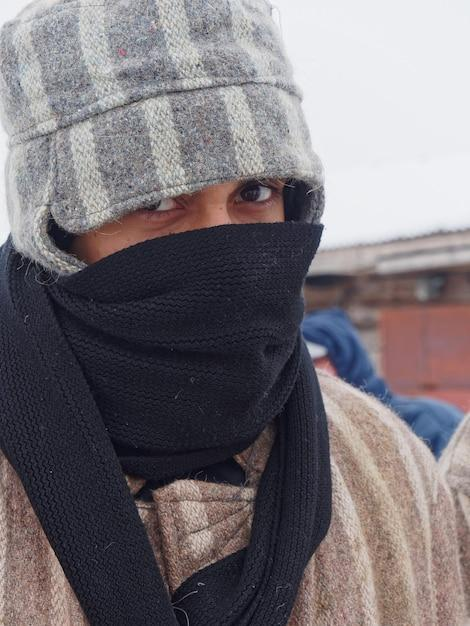cap: (0, 0, 373, 221)
scarf-kerchief: (27, 215, 385, 485)
